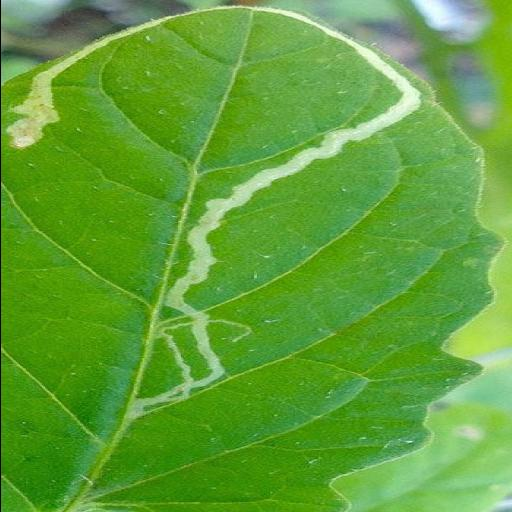disease_tomato: (0, 1, 505, 512)
